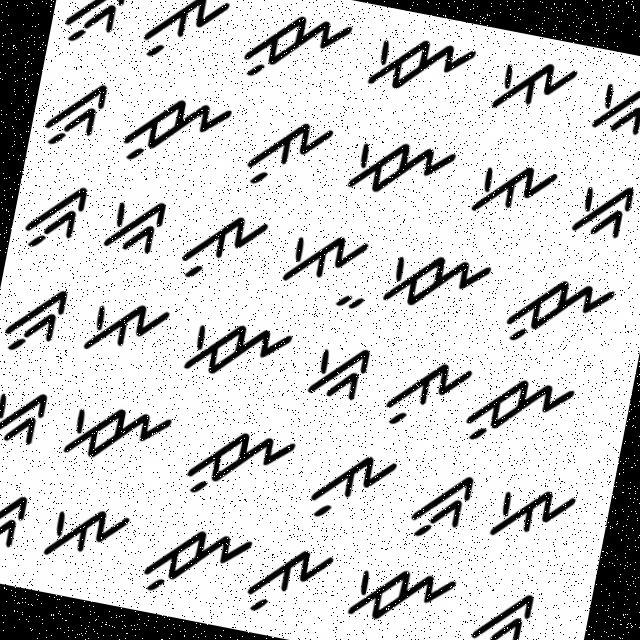e: (460, 142, 564, 231), (481, 466, 584, 554), (36, 490, 140, 576), (273, 212, 374, 298), (485, 46, 581, 132), (78, 285, 174, 366)
nge: (97, 181, 175, 268), (560, 168, 639, 250), (299, 331, 376, 408), (0, 373, 58, 463), (583, 63, 639, 153), (0, 479, 32, 564)
nggu: (36, 67, 120, 162), (20, 177, 96, 262), (402, 464, 477, 549), (0, 283, 76, 366), (454, 577, 541, 639), (55, 0, 134, 65)
nje: (355, 13, 485, 116), (336, 542, 467, 639), (379, 232, 502, 330), (175, 302, 300, 398), (341, 124, 464, 217), (53, 392, 179, 477)
nju: (231, 0, 359, 105), (116, 82, 238, 184), (133, 511, 256, 611), (496, 267, 620, 363), (175, 417, 298, 513), (462, 369, 582, 462)
u: (237, 102, 340, 205), (173, 198, 273, 294), (373, 347, 473, 442), (299, 442, 400, 532), (241, 538, 338, 624), (131, 0, 233, 75)
